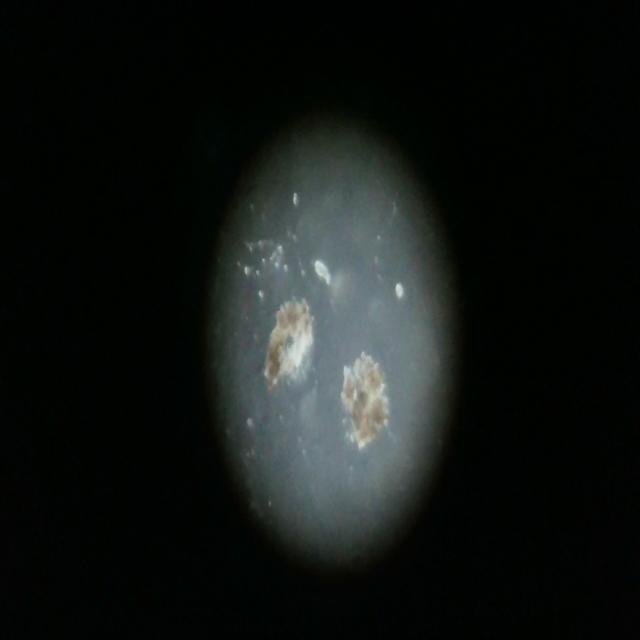alexandrium: (332, 337, 397, 452), (262, 284, 314, 412)
